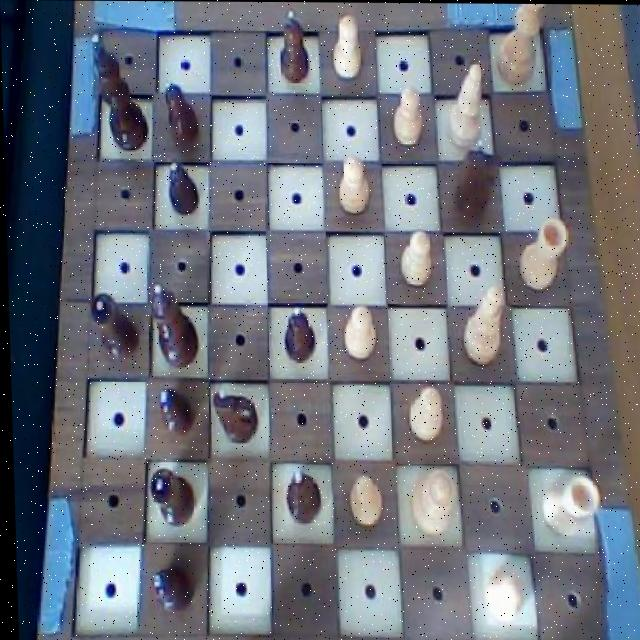black-bishop: (89, 28, 150, 156)
black-king: (452, 133, 504, 226), (207, 382, 260, 448)
black-knight: (159, 79, 202, 151), (276, 8, 313, 87), (145, 562, 196, 618), (280, 463, 323, 525), (279, 302, 318, 365), (162, 156, 201, 218)
black-pawn: (145, 276, 201, 374)
black-queen: (86, 290, 141, 365), (143, 466, 198, 527)
black-rook: (456, 278, 507, 369), (440, 58, 489, 151)
white-bishop: (492, 3, 551, 86)
white-knight: (478, 561, 524, 627), (329, 10, 371, 82), (402, 381, 444, 446), (342, 471, 386, 530), (339, 299, 379, 363), (334, 148, 371, 217), (390, 81, 427, 149), (395, 225, 434, 288)
white-pawn: (403, 469, 455, 538)
white-queen: (514, 214, 573, 293), (536, 471, 602, 538)
